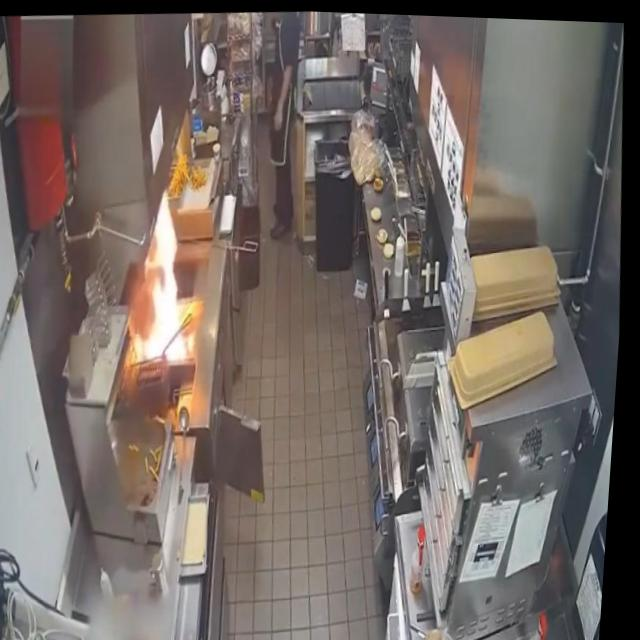fire: (125, 183, 206, 367)
